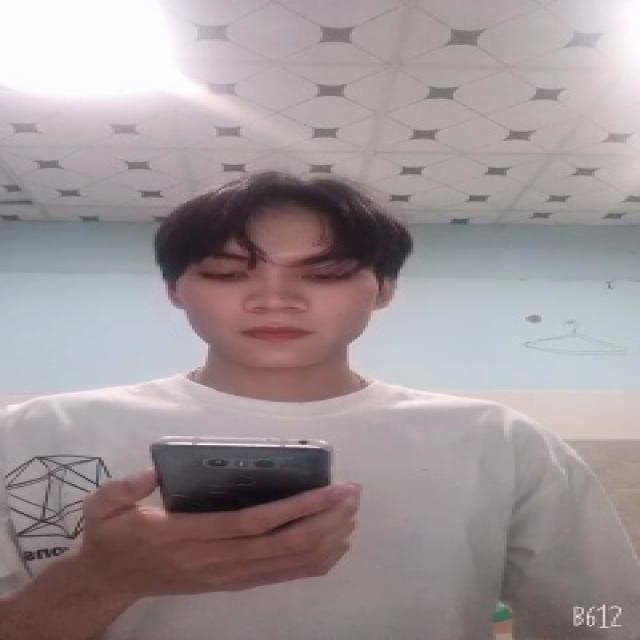Phone: (148, 434, 334, 522)
